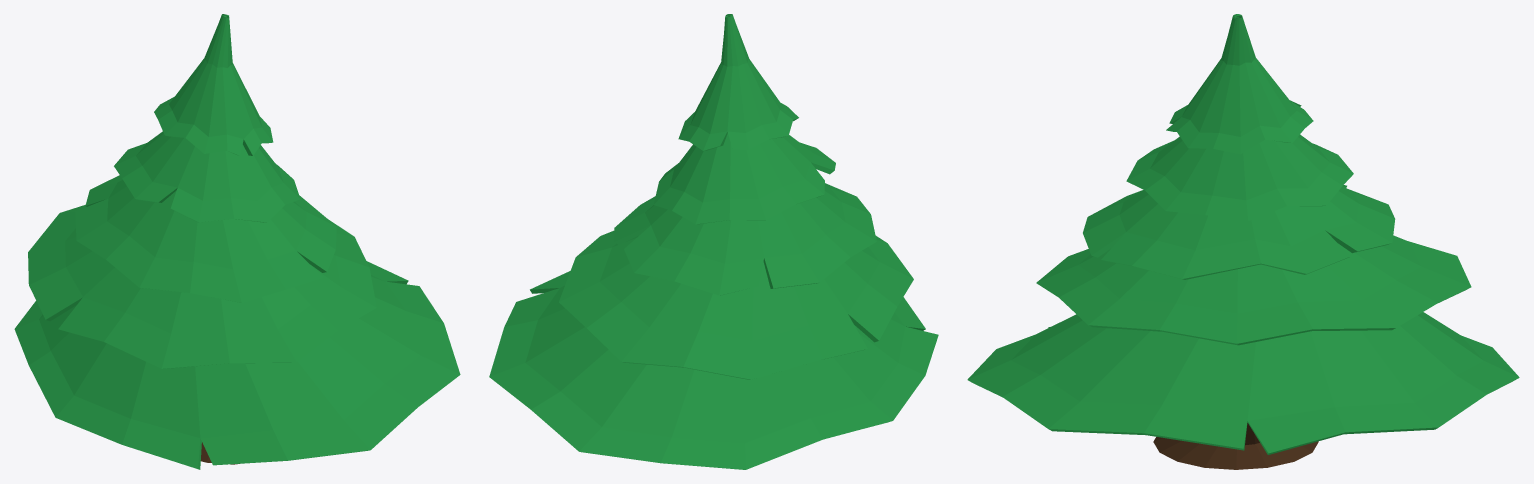
Rendered from Tannenbaum4.fbx.
3 renders of one model, left to right at view 1: azimuth 30°, elevation 25°; view 2: azimuth 150°, elevation 25°; view 3: azimuth 270°, elevation 25°, orthographic. The views are drawn at different scales.
Visible parts, largest first — view 1: Cylinder; view 2: Cylinder; view 3: Cylinder.
Boxes of the visible parts, x1,y1,x2,y2 form: Cylinder: [14, 14, 460, 469]; Cylinder: [489, 14, 938, 469]; Cylinder: [967, 14, 1519, 469].
Size of the model in its own units: 391 by 424 by 493.
